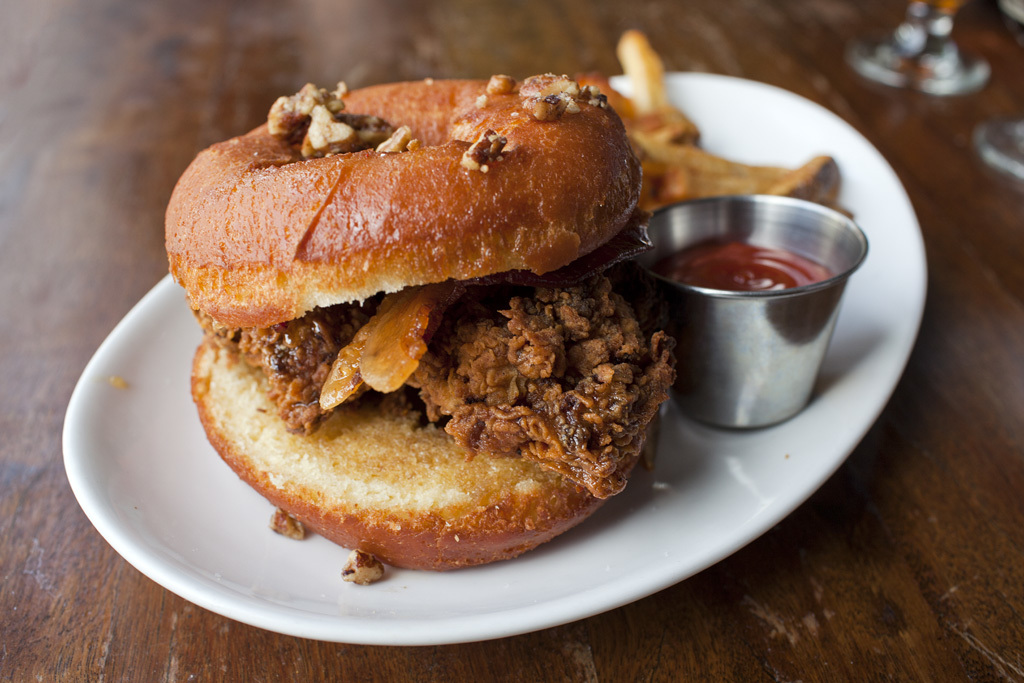Hamburger: (165, 69, 684, 582)
